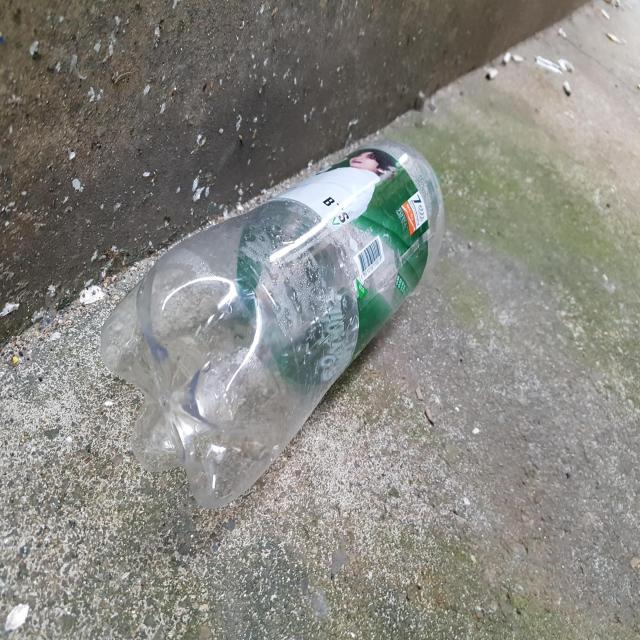plastic: (101, 140, 444, 508)
